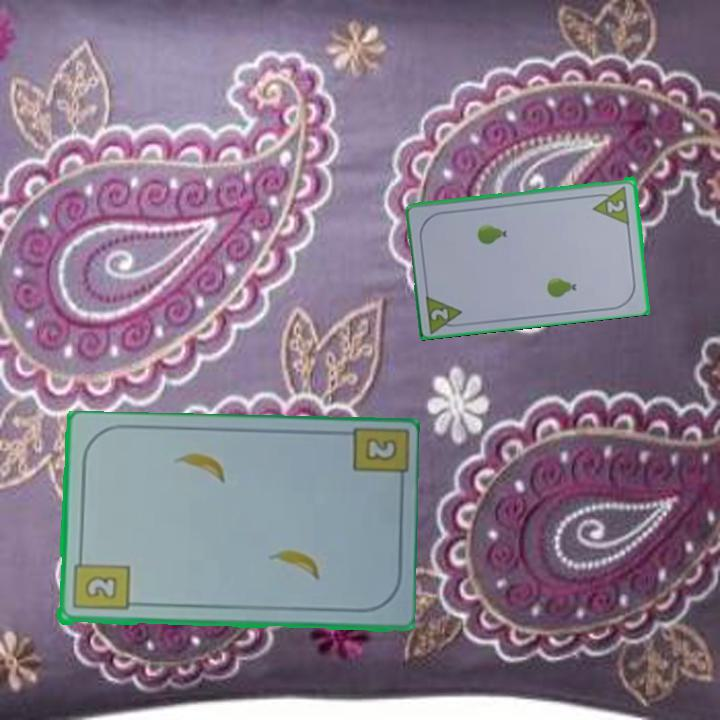2b: (69, 551, 131, 613), (361, 435, 401, 464)
2p: (427, 304, 451, 323), (604, 196, 627, 215)
